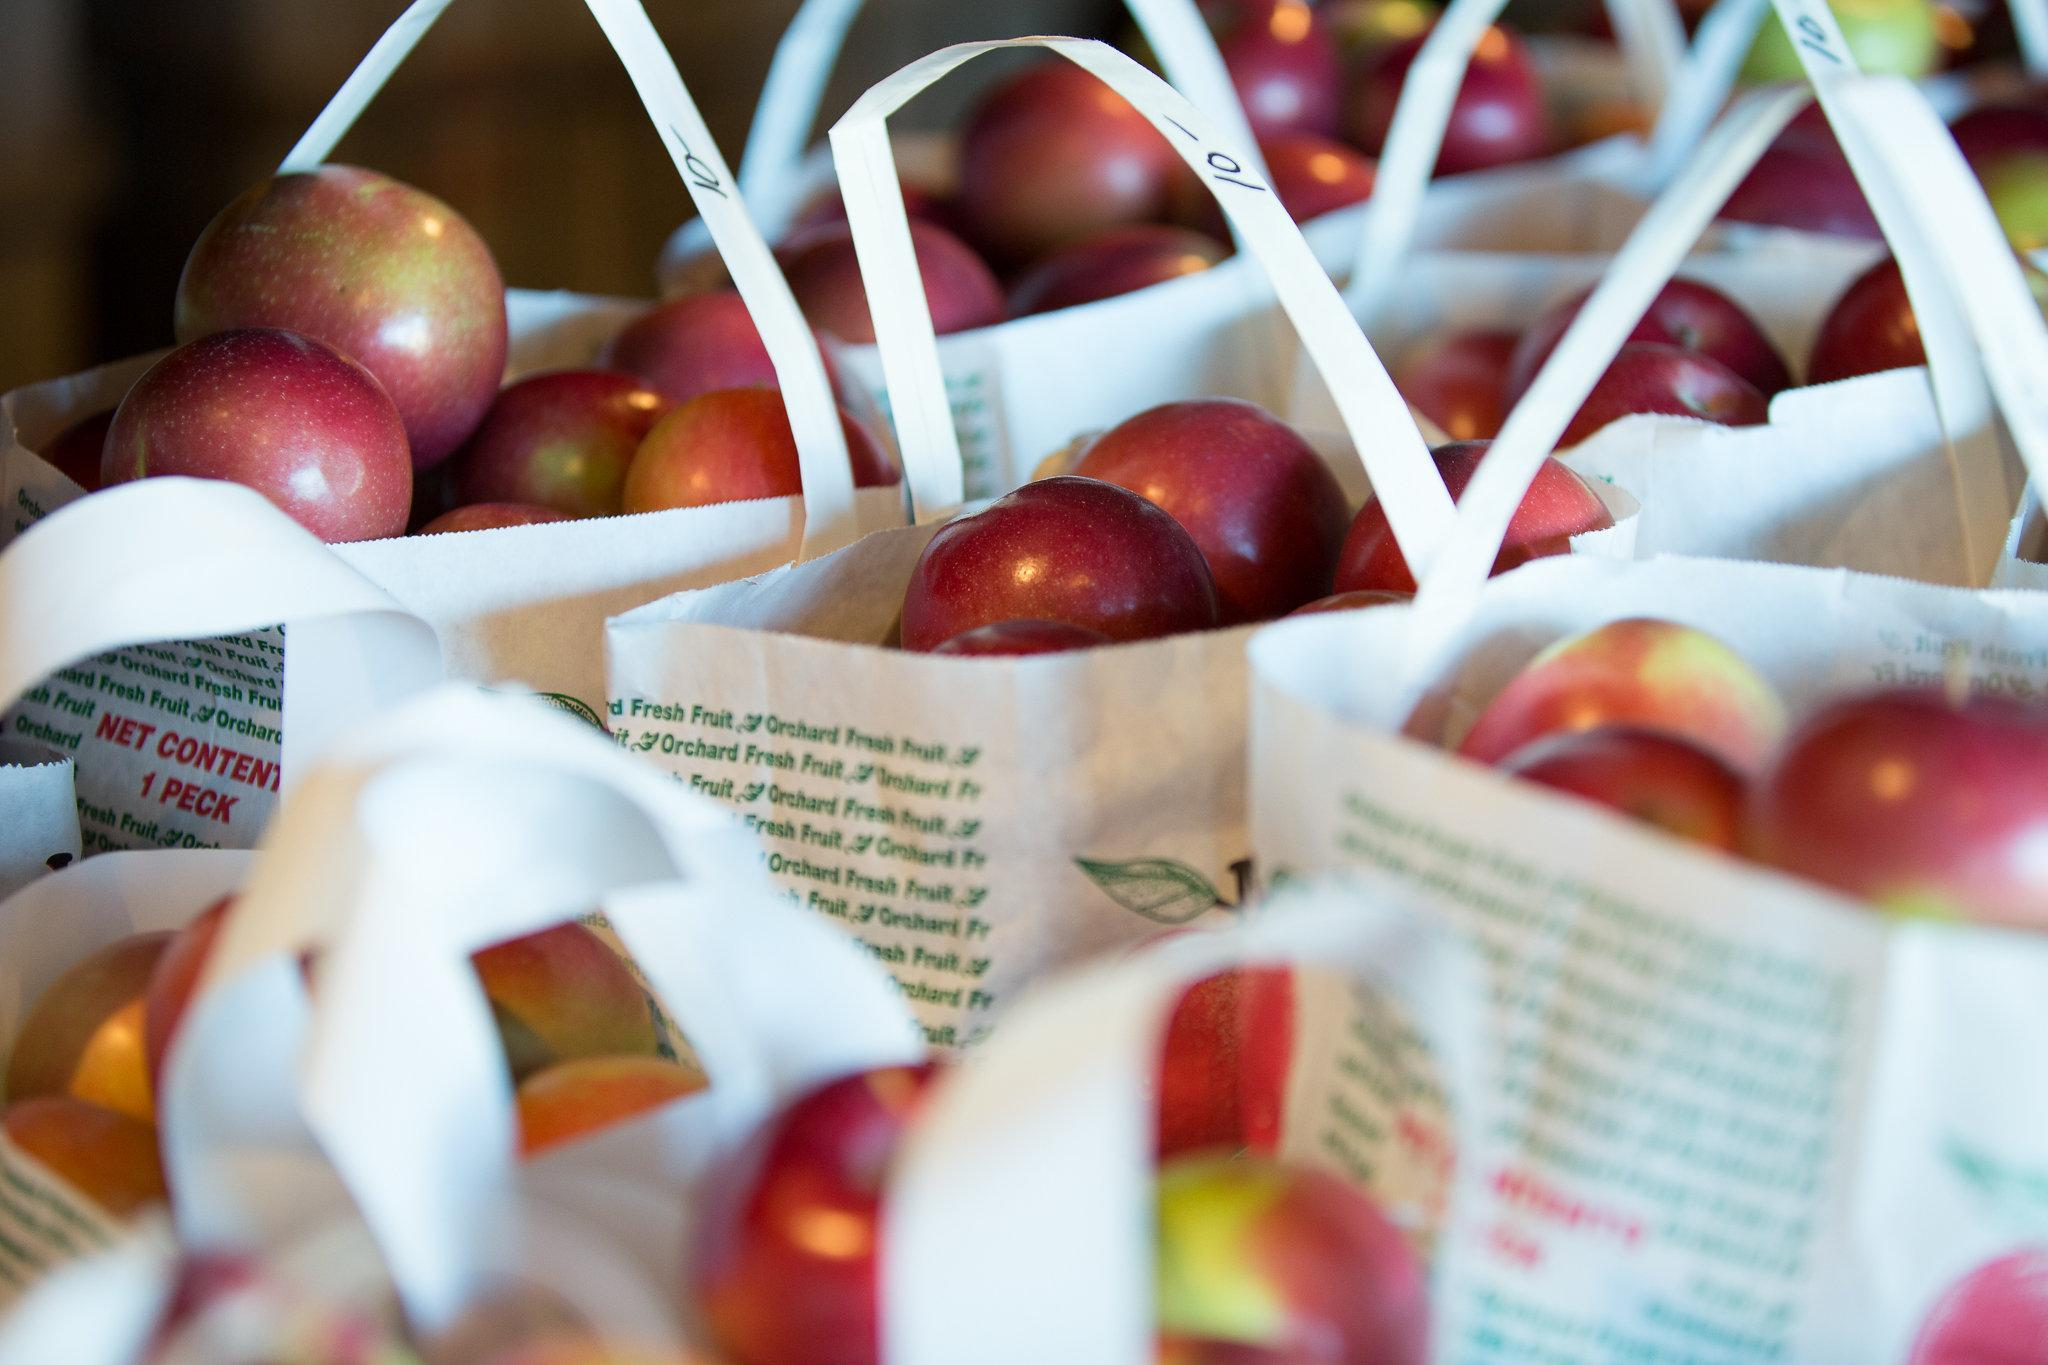apple: (175, 161, 518, 457), (94, 326, 413, 555), (672, 1066, 921, 1357), (895, 475, 1220, 655), (1067, 398, 1341, 596), (1453, 619, 1786, 775), (439, 367, 679, 515), (1558, 276, 1783, 422), (1800, 257, 1929, 387)
